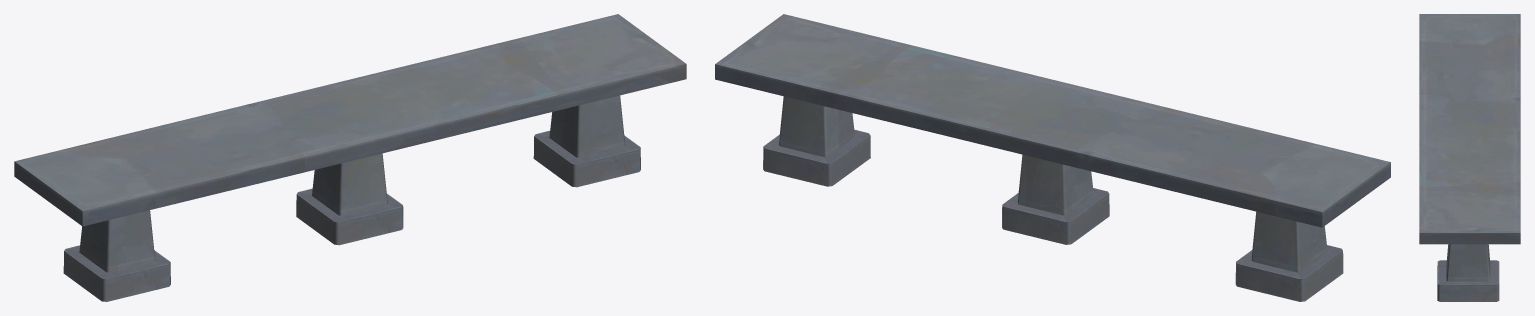
The model's file is Homeworld_Exterior_Md_Chair_Chair_02_Vo.fbx.
3 renders of one model, left to right at view 1: azimuth 30°, elevation 25°; view 2: azimuth 150°, elevation 25°; view 3: azimuth 270°, elevation 25°, orthographic. The views are drawn at different scales.
Parts seen in each view (by area): view 1: Area_MdProps_Chair02_Vo; view 2: Area_MdProps_Chair02_Vo; view 3: Area_MdProps_Chair02_Vo.
Part boxes in pixels (x1,y1,x2,y2): Area_MdProps_Chair02_Vo: (14,14,686,301); Area_MdProps_Chair02_Vo: (715,14,1390,301); Area_MdProps_Chair02_Vo: (1419,14,1520,301).
Size of the model in its own units: 3.03 by 0.5202 by 0.5926.
Materials: 1 (1 with a texture image).
